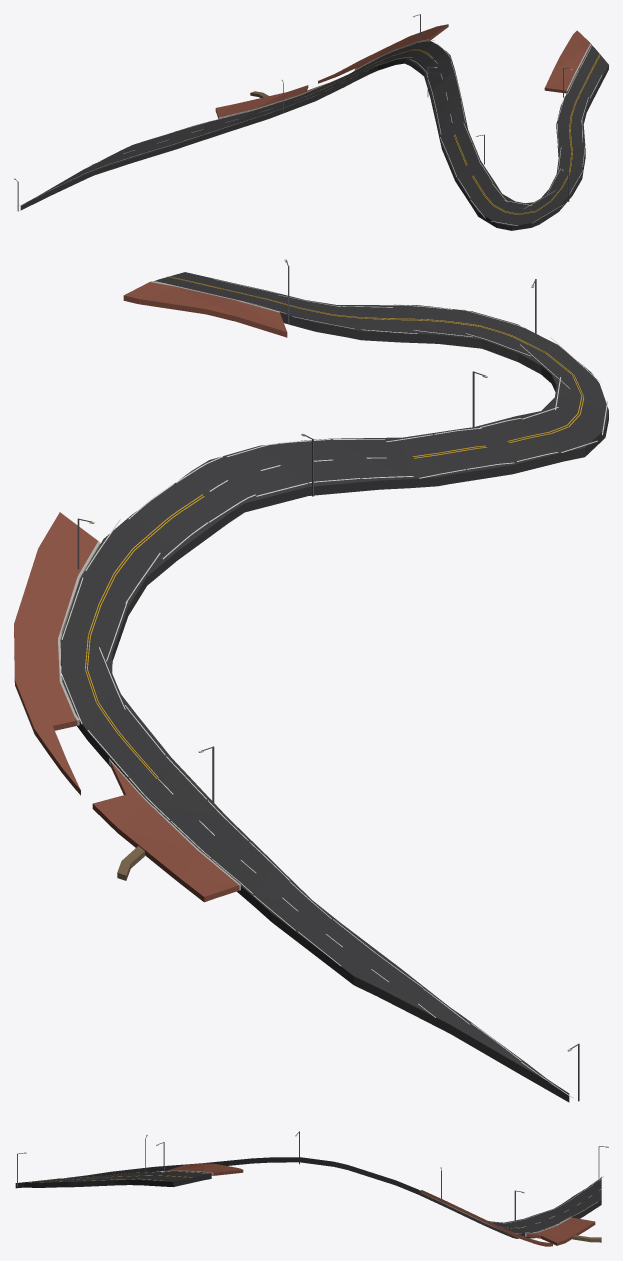
The picture shows the model from 3 angles, top to bottom: view 1: azimuth 30°, elevation 25°; view 2: azimuth 150°, elevation 25°; view 3: azimuth 270°, elevation 25°; orthographic projection. The views are drawn at different scales.
Bounding box in the file's own units: 106 × 51.66 × 124.
